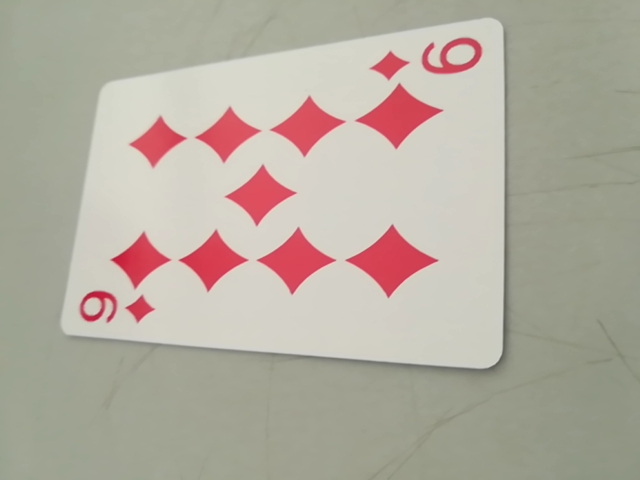fk 9: (370, 31, 490, 89), (70, 285, 159, 338)
